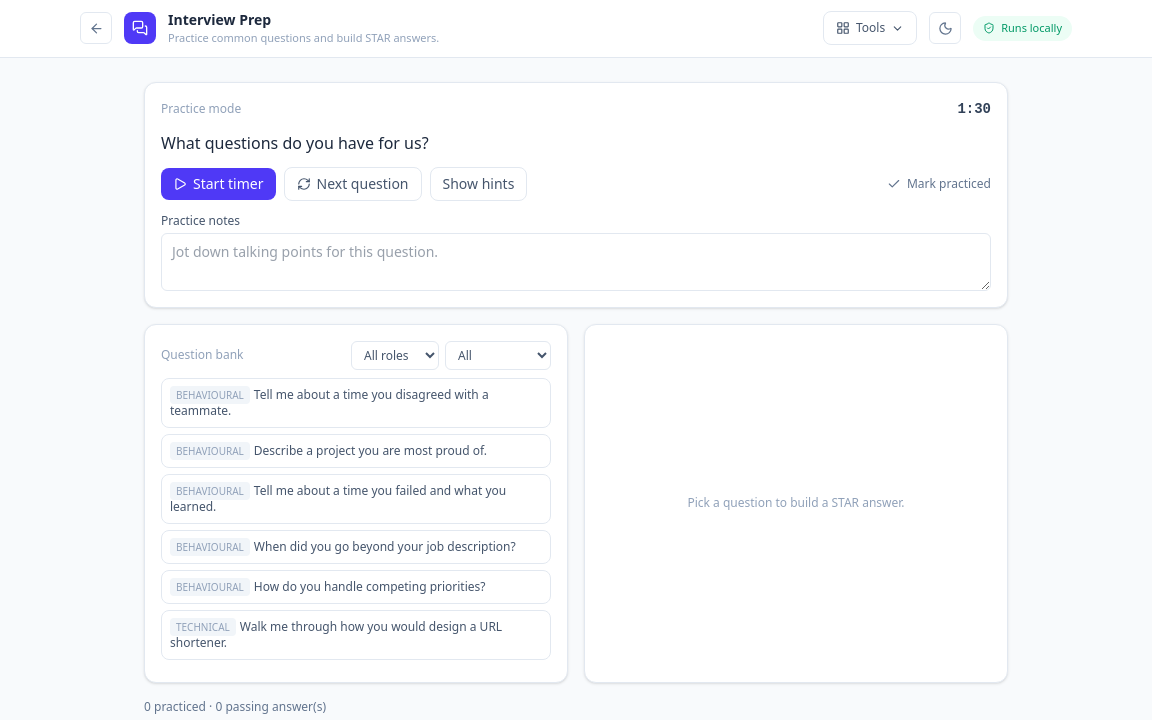
it: InterviewApp › reveals STAR hints
Click the button "Show hints" at point(478, 184), box [430, 166, 527, 200]
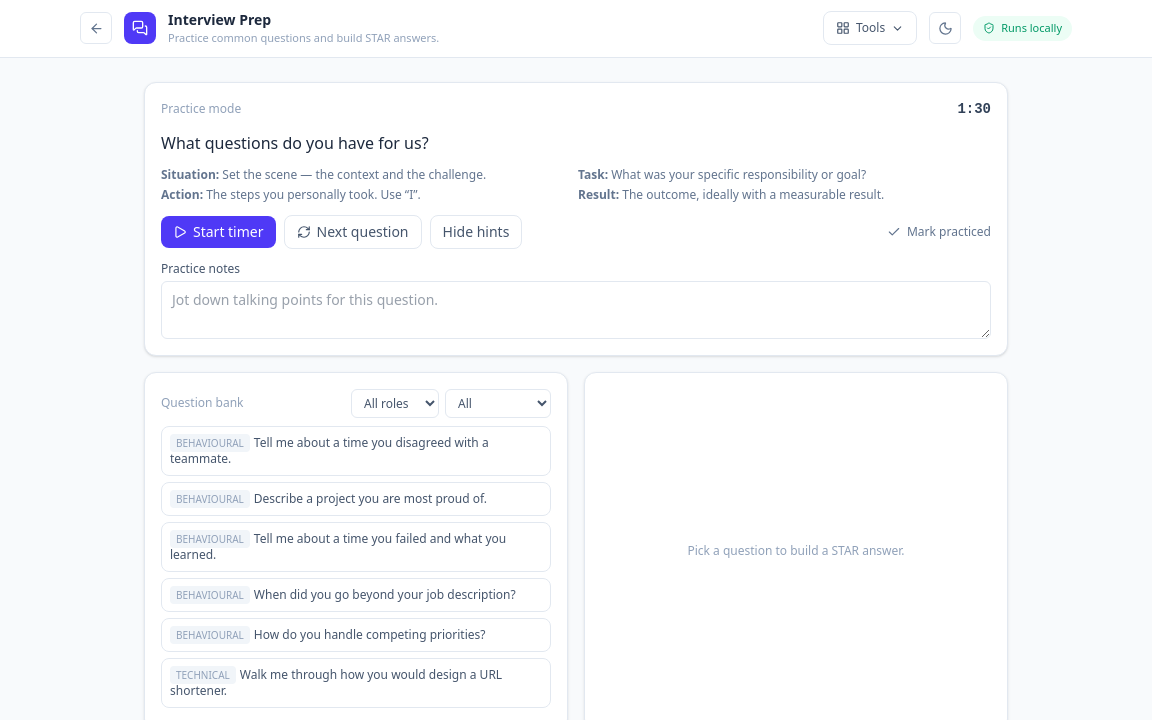
Expected: the button "Hide hints" is shown, [430, 214, 522, 248]
